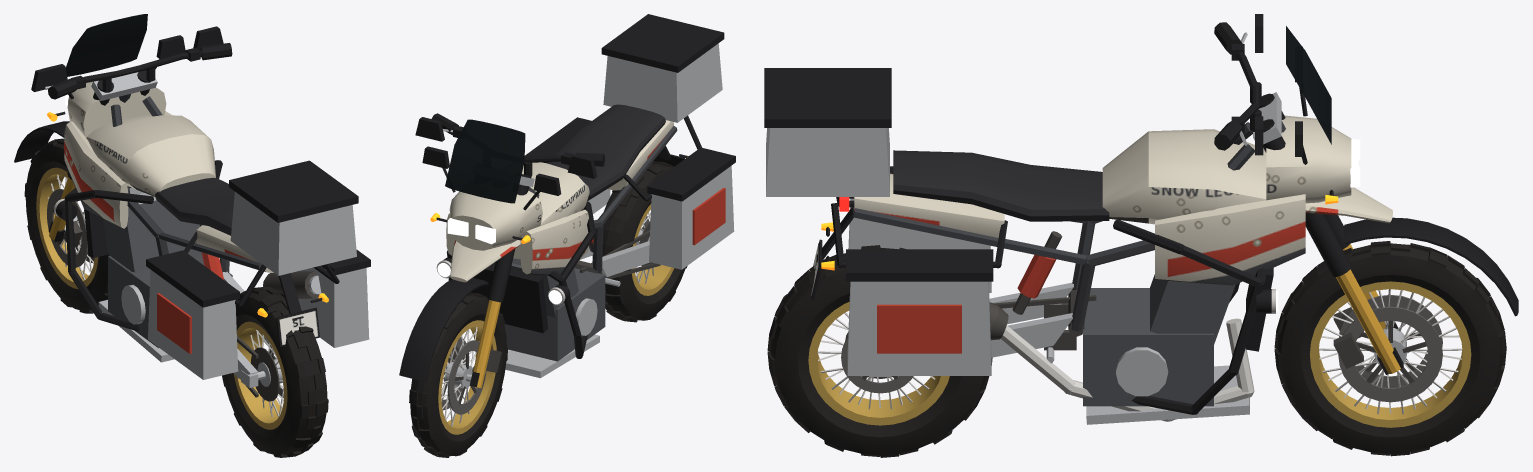
Rendered from BIKE-005_Export.fbx.
3 renders of one model, left to right at view 1: azimuth 30°, elevation 25°; view 2: azimuth 150°, elevation 25°; view 3: azimuth 270°, elevation 25°, orthographic. The views are drawn at different scales.
Parts seen in each view (by area): view 1: BIKE-005_Frame, BIKE-005_Body, BIKE-005_Wheel_R_Tire, BIKE-005_Fork, BIKE-005_Wheel_F_Tire, BIKE-005_Wheel_R_Rim, BIKE-005_Glass, BIKE-005_Wheel_F_Rim, BIKE-005_Lights; view 2: BIKE-005_Frame, BIKE-005_Body, BIKE-005_Fork, BIKE-005_Wheel_F_Tire, BIKE-005_Glass, BIKE-005_Wheel_R_Tire, BIKE-005_Wheel_F_Rim, BIKE-005_Lights, BIKE-005_Wheel_R_Rim; view 3: BIKE-005_Frame, BIKE-005_Body, BIKE-005_Wheel_F_Tire, BIKE-005_Wheel_R_Tire, BIKE-005_Wheel_F_Rim, BIKE-005_Fork, BIKE-005_Wheel_R_Rim, BIKE-005_Glass, BIKE-005_Lights.
Boxes of the visible parts, bbox=[...] form: BIKE-005_Frame: bbox=[42, 35, 370, 397]; BIKE-005_Body: bbox=[64, 81, 273, 272]; BIKE-005_Wheel_R_Tire: bbox=[222, 286, 328, 457]; BIKE-005_Fork: bbox=[14, 26, 232, 247]; BIKE-005_Wheel_F_Tire: bbox=[24, 138, 108, 313]; BIKE-005_Wheel_R_Rim: bbox=[233, 321, 287, 429]; BIKE-005_Glass: bbox=[66, 14, 147, 76]; BIKE-005_Wheel_F_Rim: bbox=[36, 167, 98, 289]; BIKE-005_Lights: bbox=[47, 94, 328, 317]; BIKE-005_Frame: bbox=[422, 14, 735, 378]; BIKE-005_Body: bbox=[446, 120, 673, 282]; BIKE-005_Fork: bbox=[399, 113, 604, 388]; BIKE-005_Wheel_F_Tire: bbox=[409, 292, 507, 457]; BIKE-005_Glass: bbox=[445, 119, 525, 203]; BIKE-005_Wheel_R_Tire: bbox=[592, 161, 687, 322]; BIKE-005_Wheel_F_Rim: bbox=[438, 320, 496, 434]; BIKE-005_Lights: bbox=[430, 154, 688, 305]; BIKE-005_Wheel_R_Rim: bbox=[631, 204, 674, 295]; BIKE-005_Frame: bbox=[764, 46, 1307, 424]; BIKE-005_Body: bbox=[854, 115, 1392, 285]; BIKE-005_Wheel_F_Tire: bbox=[1274, 241, 1506, 456]; BIKE-005_Wheel_R_Tire: bbox=[767, 245, 992, 457]; BIKE-005_Wheel_F_Rim: bbox=[1309, 281, 1471, 427]; BIKE-005_Fork: bbox=[1214, 14, 1518, 374]; BIKE-005_Wheel_R_Rim: bbox=[808, 302, 949, 425]; BIKE-005_Glass: bbox=[1286, 26, 1331, 144]; BIKE-005_Lights: bbox=[821, 139, 1360, 313].
Size of the model in its own units: 0.87 by 1.39 by 2.31.
19 materials, 2 textured.
